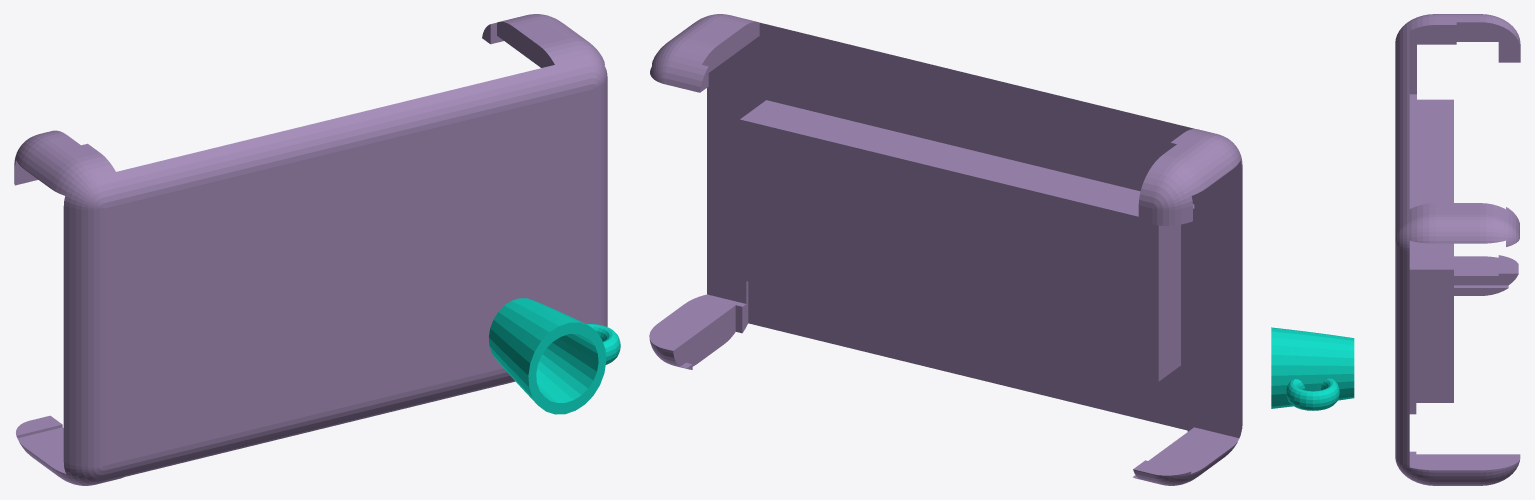
Rendered from tinker.obj.
The picture shows the model from 3 angles, left to right: view 1: azimuth 30°, elevation 25°; view 2: azimuth 150°, elevation 25°; view 3: azimuth 270°, elevation 25°; orthographic projection. The views are drawn at different scales.
Parts seen in each view (by area): view 1: group_0_10520757, group_0_646086; view 2: group_0_10520757; view 3: group_0_10520757, group_0_646086.
Part boxes in pixels (<box>): group_0_10520757: <box>14,14,607,485</box>; group_0_646086: <box>489,298,620,414</box>; group_0_10520757: <box>649,14,1242,485</box>; group_0_10520757: <box>1395,14,1520,485</box>; group_0_646086: <box>1271,327,1354,410</box>.
Size of the model in its own units: 82.47 by 46.4 by 39.
